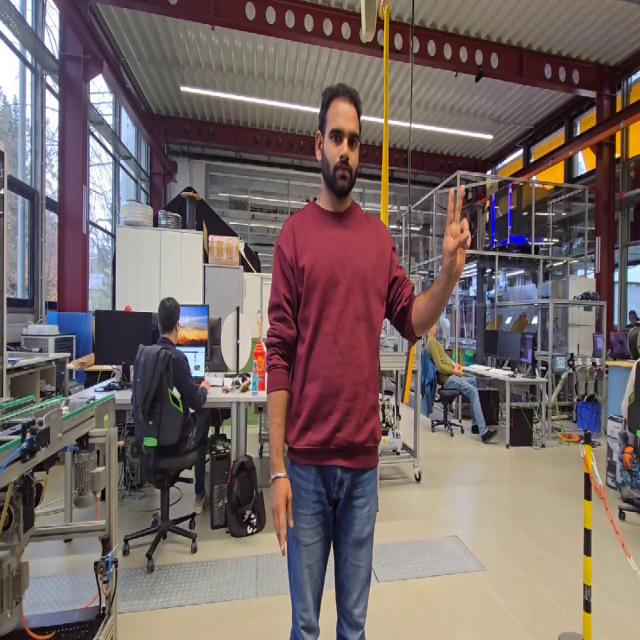v_sign: (439, 182, 474, 286)
